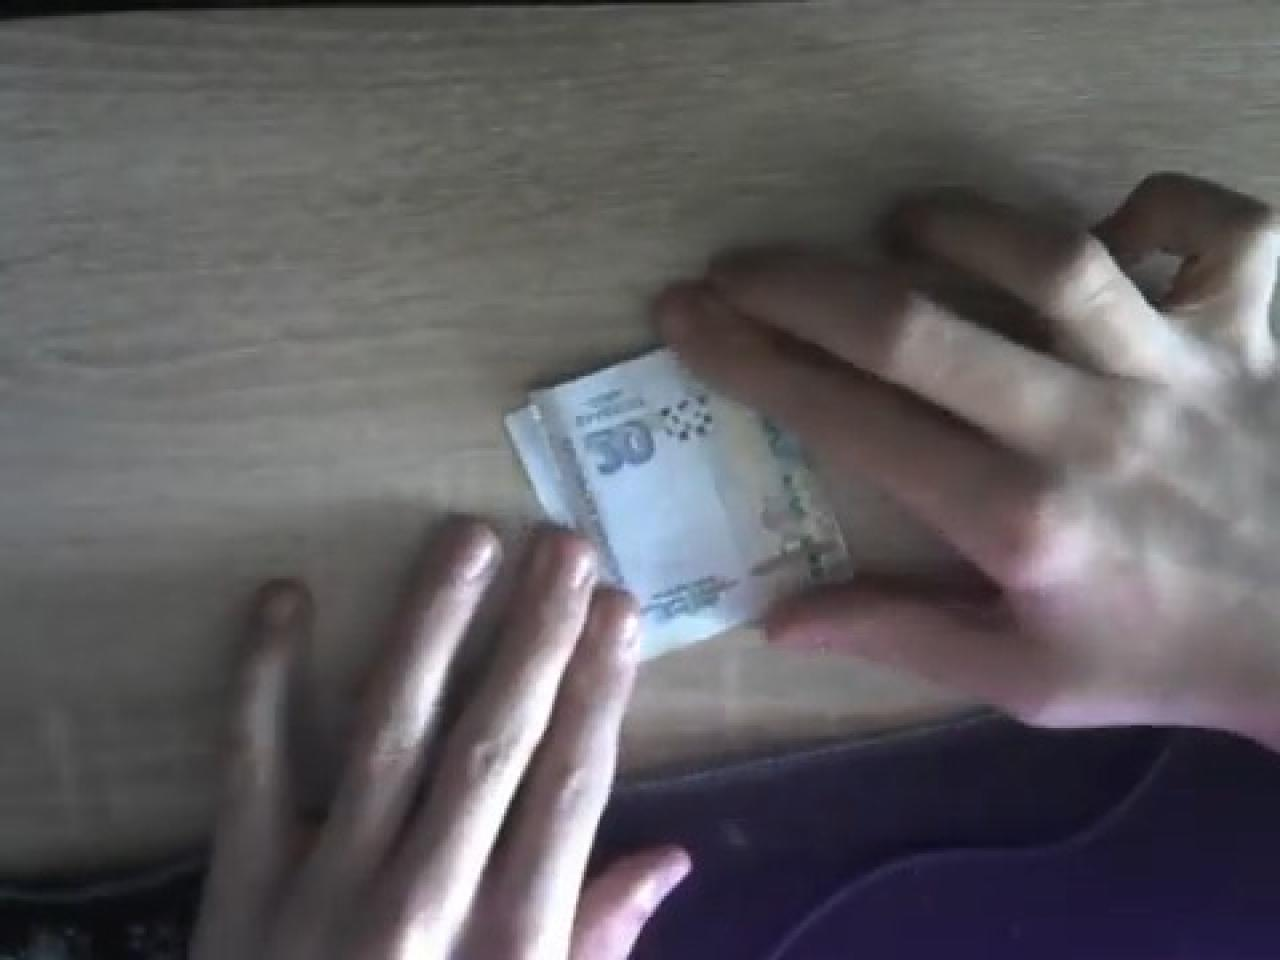20leva: (501, 347, 856, 658)
